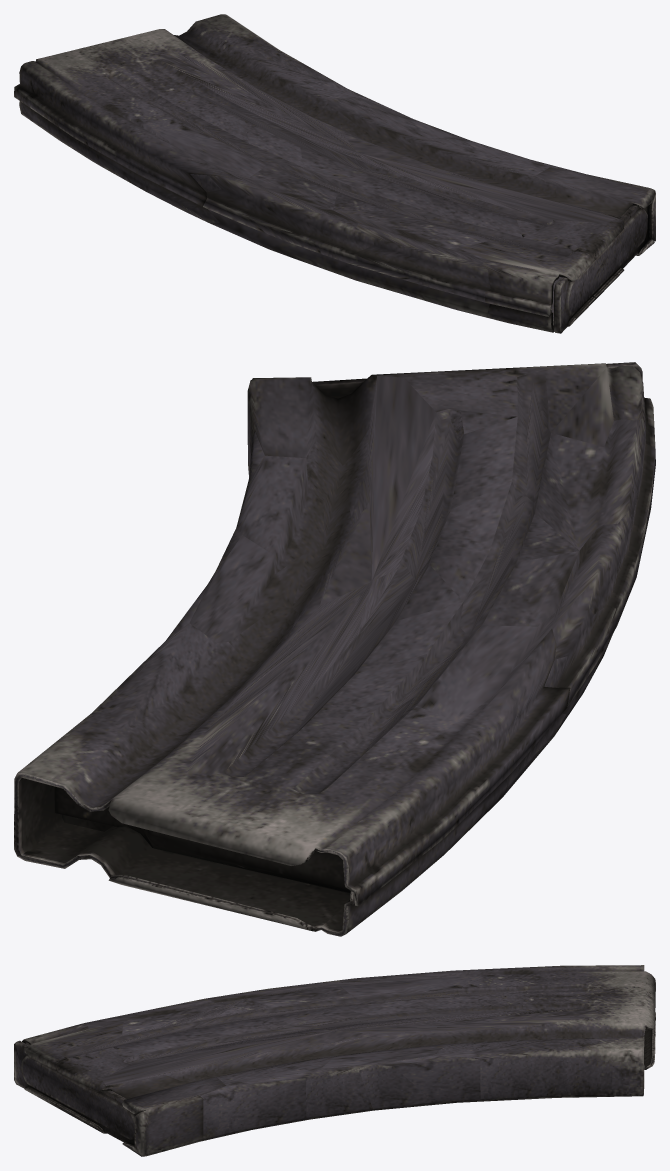
File: Mag3006ExtLg_Ground.fbx
3 views of the same model, one above another, from view 1: azimuth 30°, elevation 25°; view 2: azimuth 150°, elevation 25°; view 3: azimuth 270°, elevation 25° (orthographic). The views are drawn at different scales.
Visible parts, largest first — view 1: Mag3006ExtLg; view 2: Mag3006ExtLg; view 3: Mag3006ExtLg.
Part boxes in pixels (x1,y1,x2,y2): Mag3006ExtLg: (14, 14, 655, 333); Mag3006ExtLg: (14, 362, 655, 936); Mag3006ExtLg: (14, 965, 655, 1156).
Size of the model in its own units: 0.0796 by 0.0118 by 0.1431.
